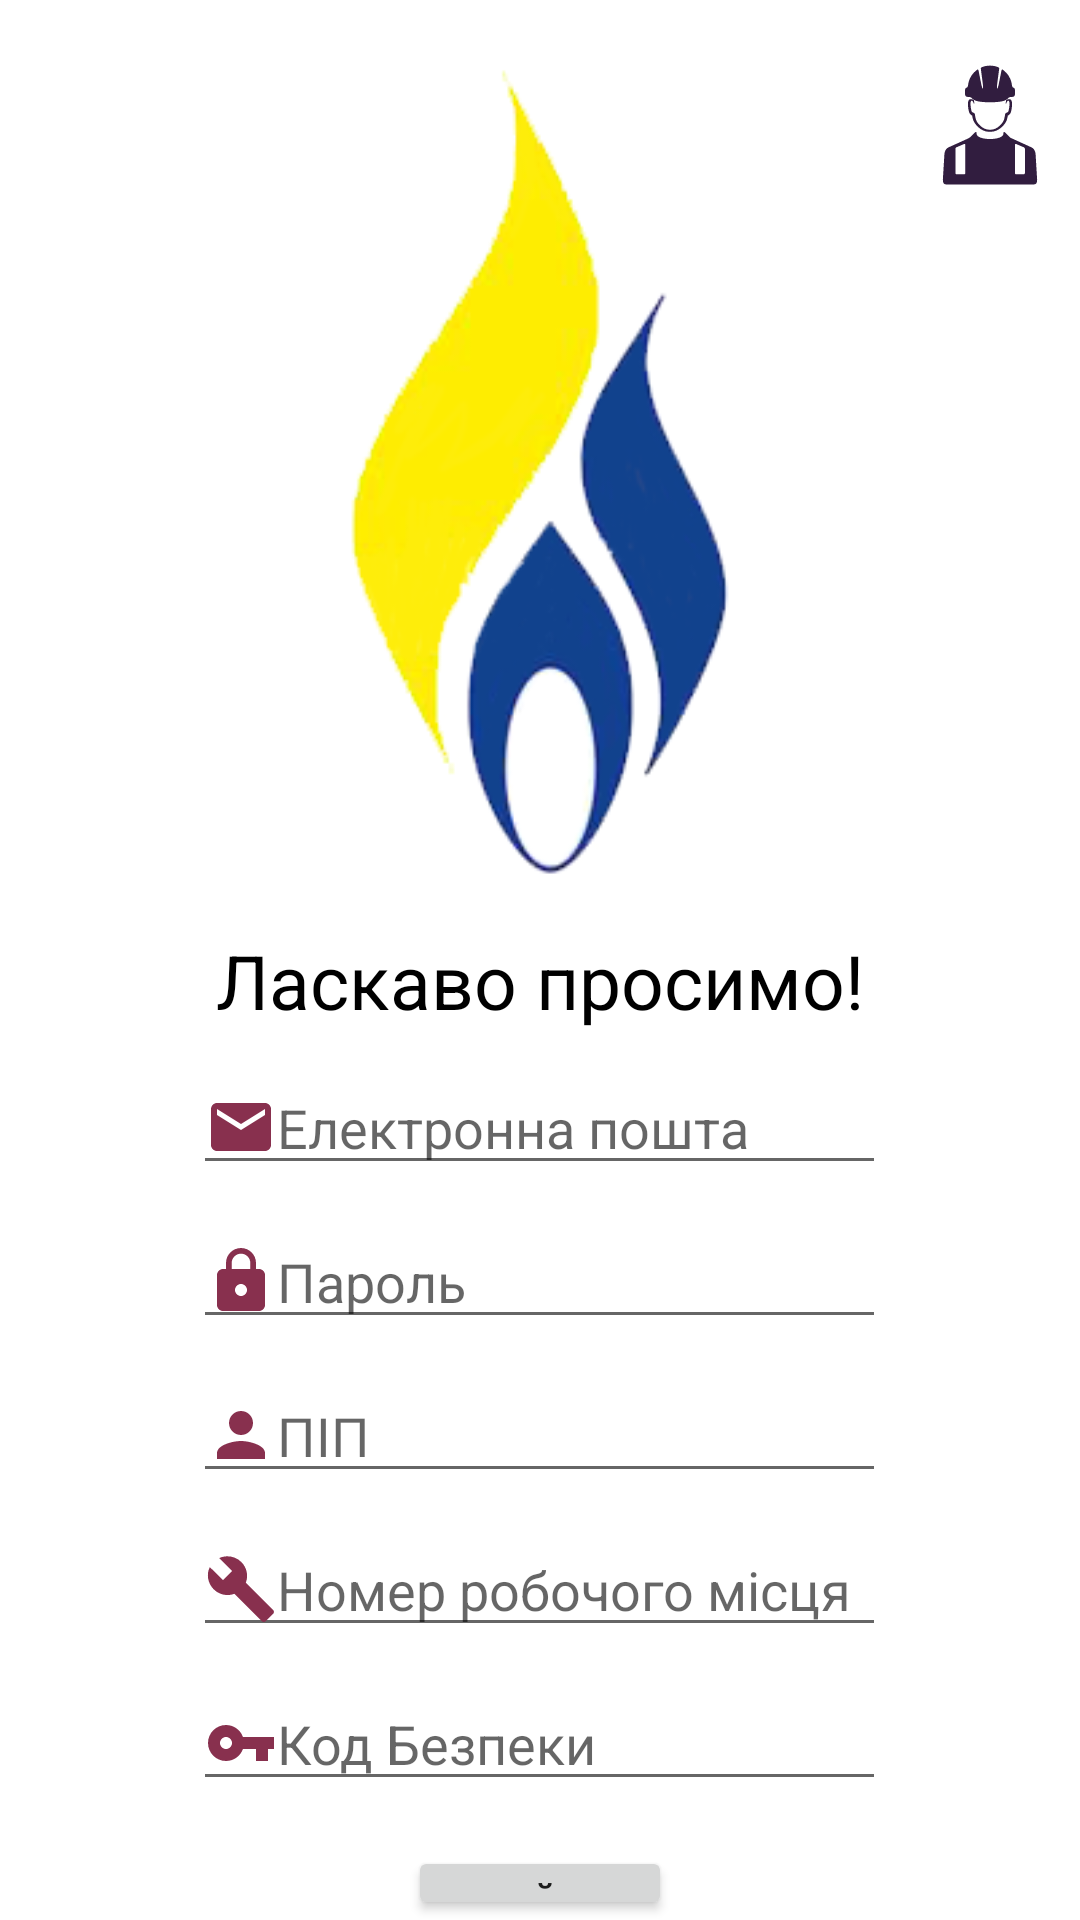

Icons on this 1080×1920 Android screen, each with the point to tap as (x=x, y=y):
noun worker: (x=990, y=125)
